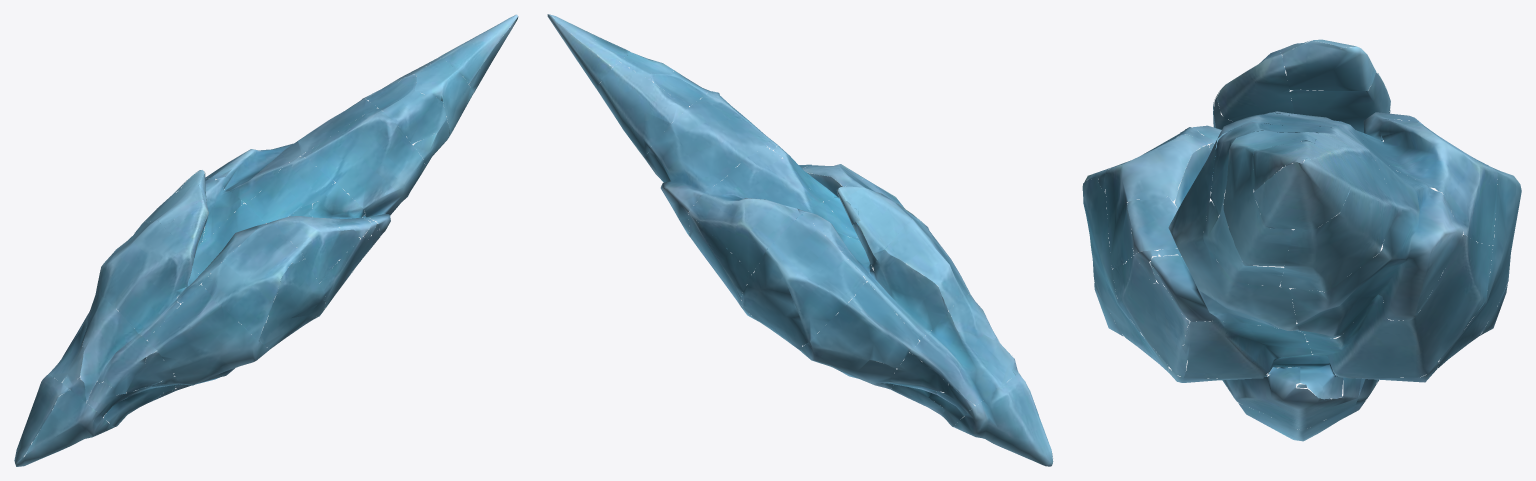
Rendered from ice-crystal.glb.
The picture shows the model from 3 angles, left to right: view 1: azimuth 30°, elevation 25°; view 2: azimuth 150°, elevation 25°; view 3: azimuth 270°, elevation 25°; orthographic projection. The views are drawn at different scales.
Parts seen in each view (by area): view 1: tripo_node_46cf82fa-a2e7-41e2-b2e3-745504f21d4f; view 2: tripo_node_46cf82fa-a2e7-41e2-b2e3-745504f21d4f; view 3: tripo_node_46cf82fa-a2e7-41e2-b2e3-745504f21d4f.
Part boxes in pixels (x1,y1,x2,y2): tripo_node_46cf82fa-a2e7-41e2-b2e3-745504f21d4f: [14, 14, 518, 466]; tripo_node_46cf82fa-a2e7-41e2-b2e3-745504f21d4f: [547, 14, 1053, 466]; tripo_node_46cf82fa-a2e7-41e2-b2e3-745504f21d4f: [1082, 39, 1521, 441].
Bounding box in the file's own units: 0.9817 × 0.6153 × 0.3708.
1 material, 1 textured.
